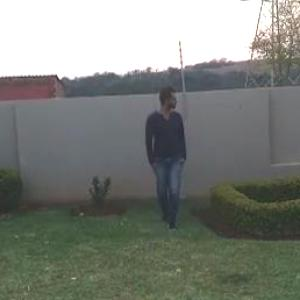follow: (142, 73, 196, 263)
